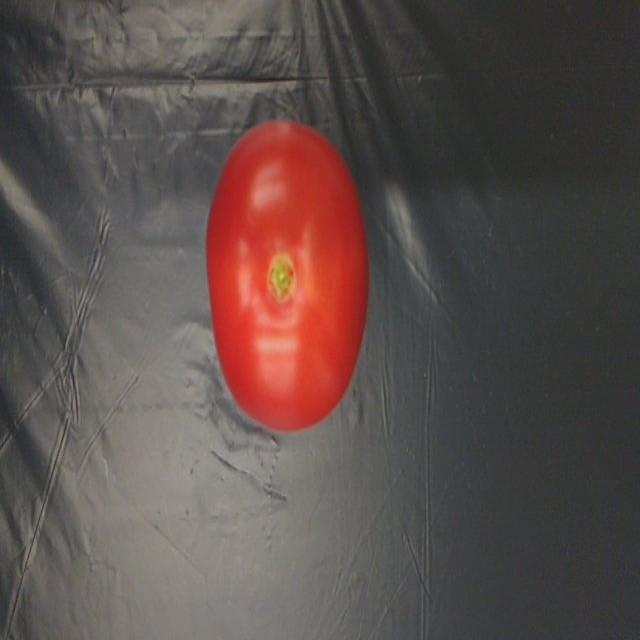kirmizi: (206, 112, 381, 446)
